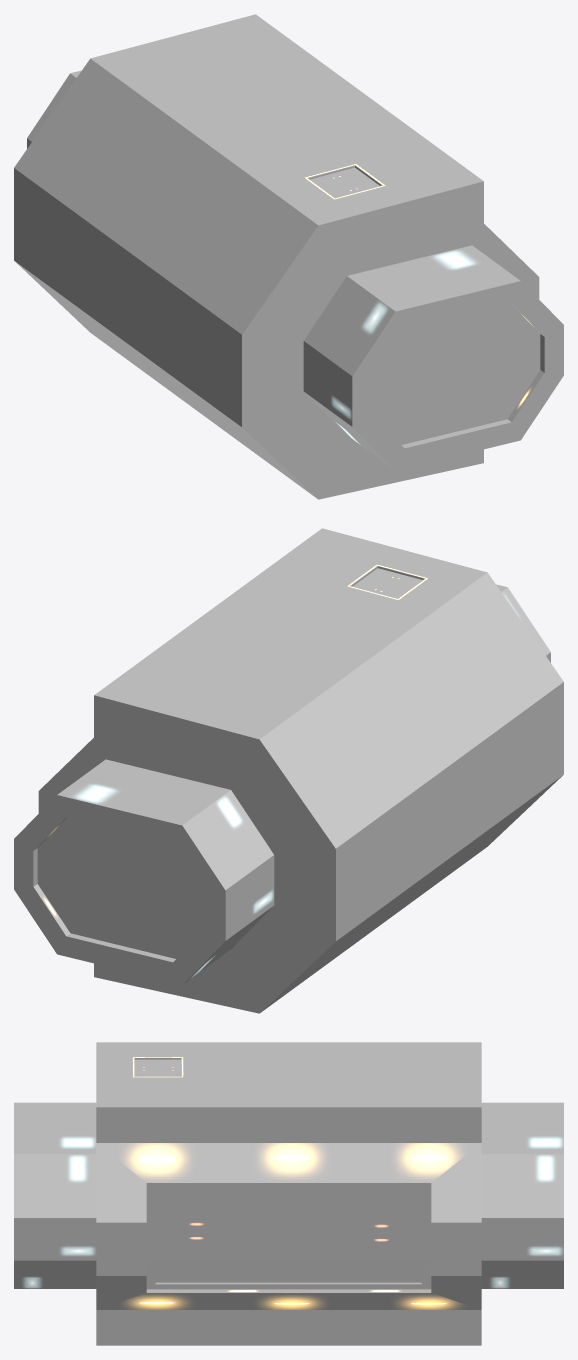
The model's file is Station_DockingModule.fbx.
3 renders of one model, top to bottom at view 1: azimuth 30°, elevation 25°; view 2: azimuth 150°, elevation 25°; view 3: azimuth 270°, elevation 25°, orthographic. The views are drawn at different scales.
Visible parts, largest first — view 1: Station_Docking Module; view 2: Station_Docking Module; view 3: Station_Docking Module.
Boxes of the visible parts, left/top/right/bottom form: Station_Docking Module: left=14, top=14, right=563, bottom=499; Station_Docking Module: left=14, top=528, right=563, bottom=1013; Station_Docking Module: left=14, top=1042, right=563, bottom=1345.
Bounding box in the file's own units: 20.58 × 10.85 × 9.83.
